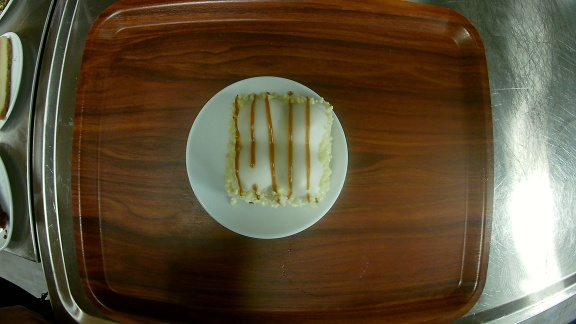beyazpasta: (186, 75, 350, 239)
